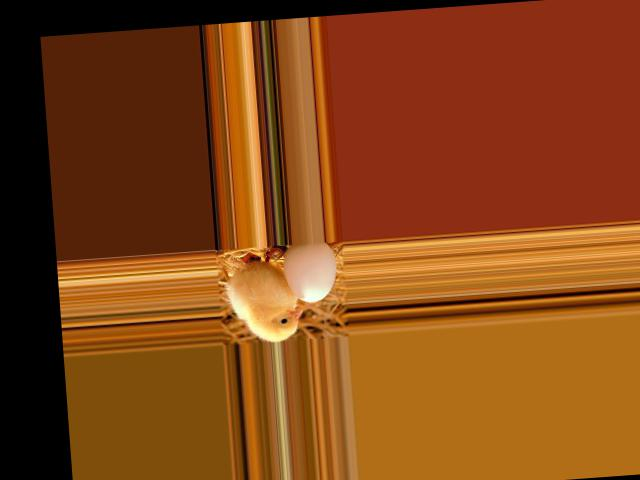egg: (281, 240, 338, 304)
